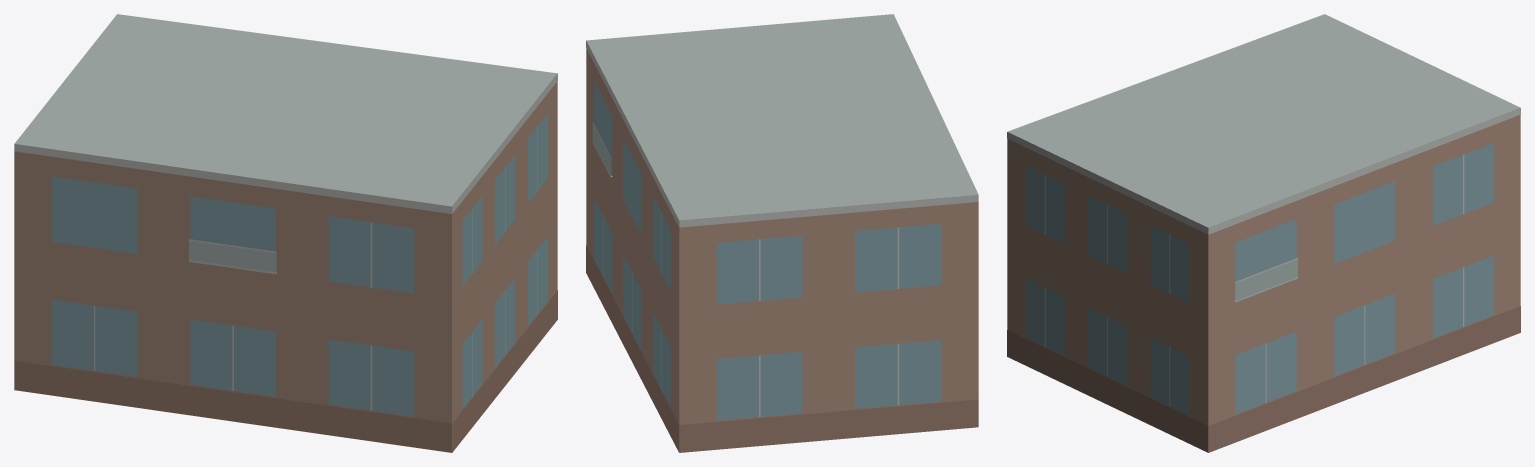
Rendered from survey-upis-32631476.glb.
The picture shows the model from 3 angles, left to right: view 1: azimuth 30°, elevation 25°; view 2: azimuth 150°, elevation 25°; view 3: azimuth 270°, elevation 25°; orthographic projection. The views are drawn at different scales.
Visible parts, largest first — view 1: survey-upis-32631476.tmp; view 2: survey-upis-32631476.tmp; view 3: survey-upis-32631476.tmp.
Part boxes in pixels (x1,y1,x2,y2): survey-upis-32631476.tmp: (14, 14, 557, 452); survey-upis-32631476.tmp: (586, 14, 978, 452); survey-upis-32631476.tmp: (1007, 14, 1520, 452).
Size of the model in its own units: 16.32 by 8 by 16.56.
